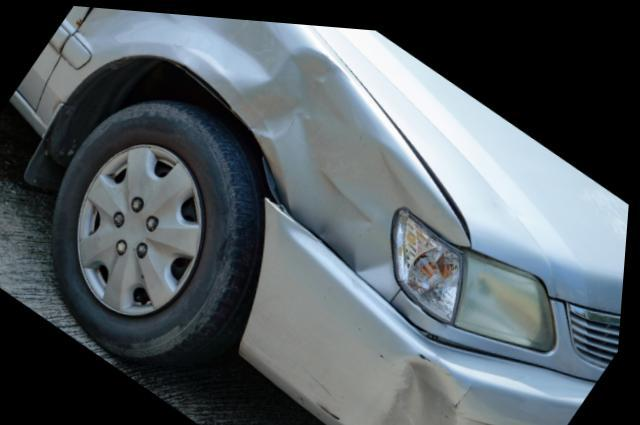dent: (79, 6, 457, 274), (357, 345, 464, 425)
